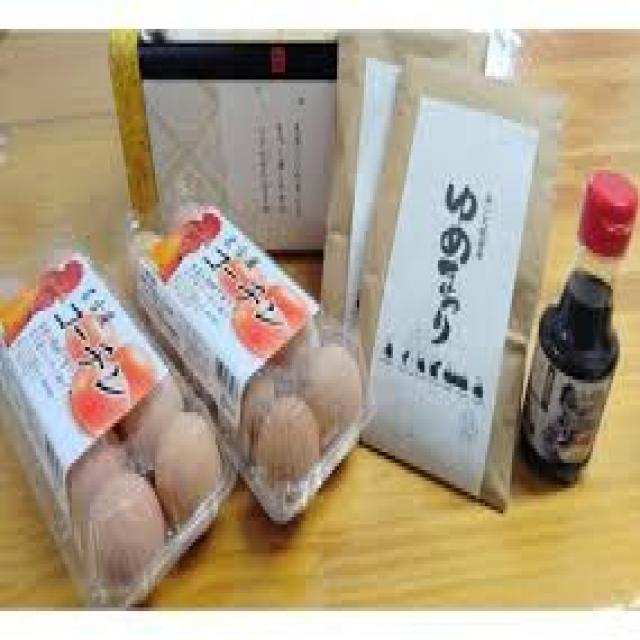egg: (130, 188, 377, 528), (0, 257, 238, 607)
